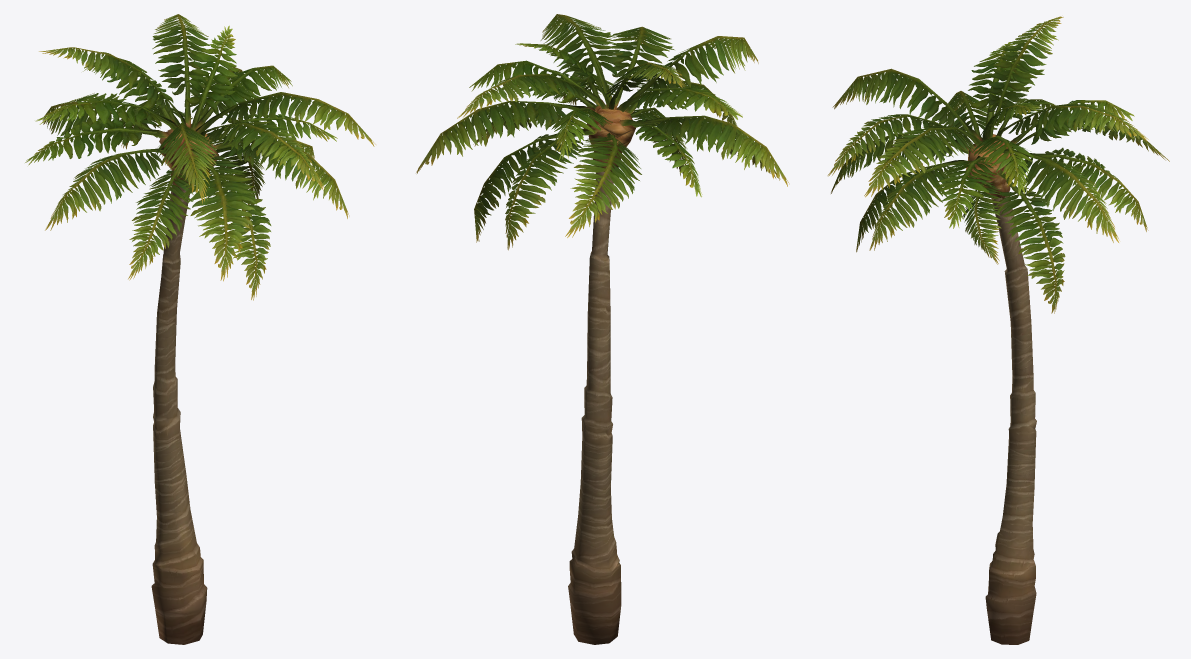
The picture shows the model from 3 angles, left to right: view 1: azimuth 30°, elevation 25°; view 2: azimuth 150°, elevation 25°; view 3: azimuth 270°, elevation 25°; orthographic projection. The views are drawn at different scales.
Size of the model in its own units: 9.85 by 18.47 by 10.34.
Materials: 2 (2 with a texture image).
